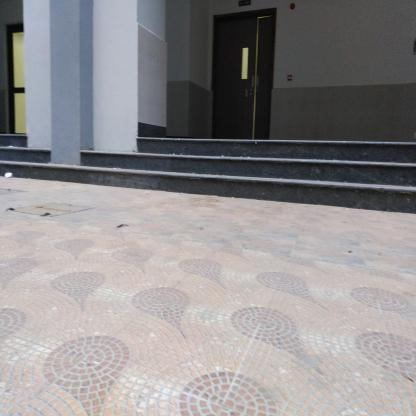stairs: (140, 137, 413, 200)
